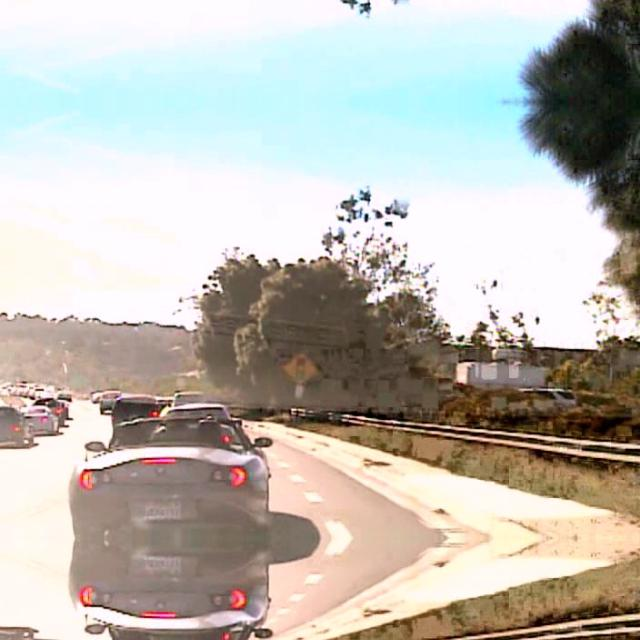signalAhead: (282, 350, 318, 384)
